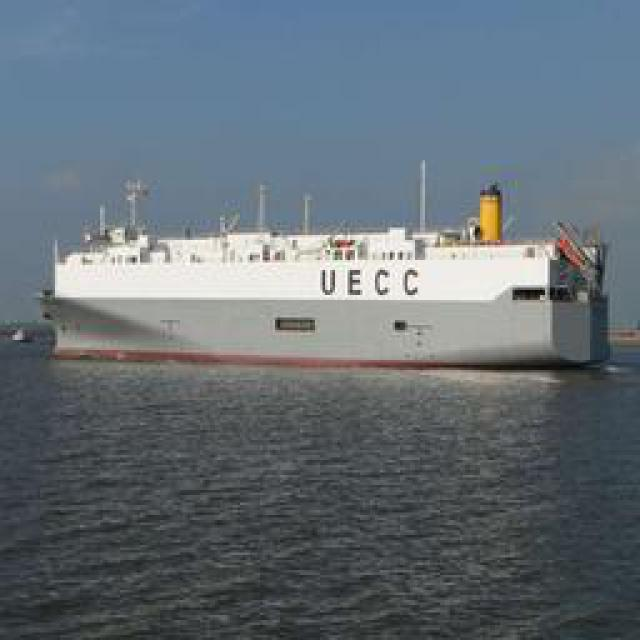Ship: (36, 169, 611, 369)
